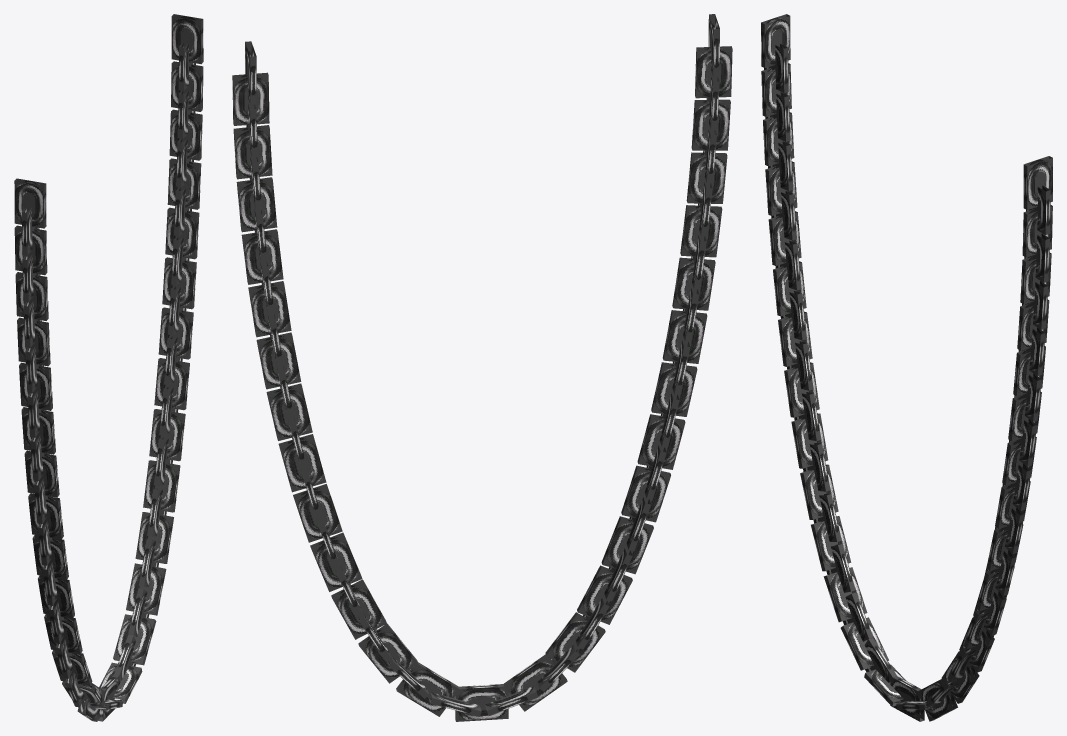
Rendered from SWORDLIGHT20_INST_CHAINA_LOD1_03.fbx.
The picture shows the model from 3 angles, left to right: view 1: azimuth 30°, elevation 25°; view 2: azimuth 150°, elevation 25°; view 3: azimuth 270°, elevation 25°; orthographic projection. The views are drawn at different scales.
Visible parts, largest first — view 1: SWORDLIGHT20_INST_CHAINA_LOD1_03; view 2: SWORDLIGHT20_INST_CHAINA_LOD1_03; view 3: SWORDLIGHT20_INST_CHAINA_LOD1_03.
Part boxes in pixels (x1,y1,x2,y2): SWORDLIGHT20_INST_CHAINA_LOD1_03: (14,14,203,721); SWORDLIGHT20_INST_CHAINA_LOD1_03: (232,14,732,721); SWORDLIGHT20_INST_CHAINA_LOD1_03: (761,14,1052,721).
Size of the model in its own units: 11229 by 21114 by 8968.
Materials: 1 (1 with a texture image).
